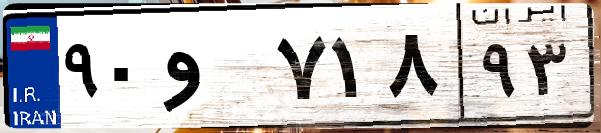0: (110, 28, 158, 98)
1: (330, 28, 385, 110)
3: (525, 38, 570, 115)
7: (270, 28, 330, 110)
8: (385, 28, 445, 110)
9: (57, 26, 110, 100), (475, 38, 525, 113)
و: (158, 20, 270, 120)
